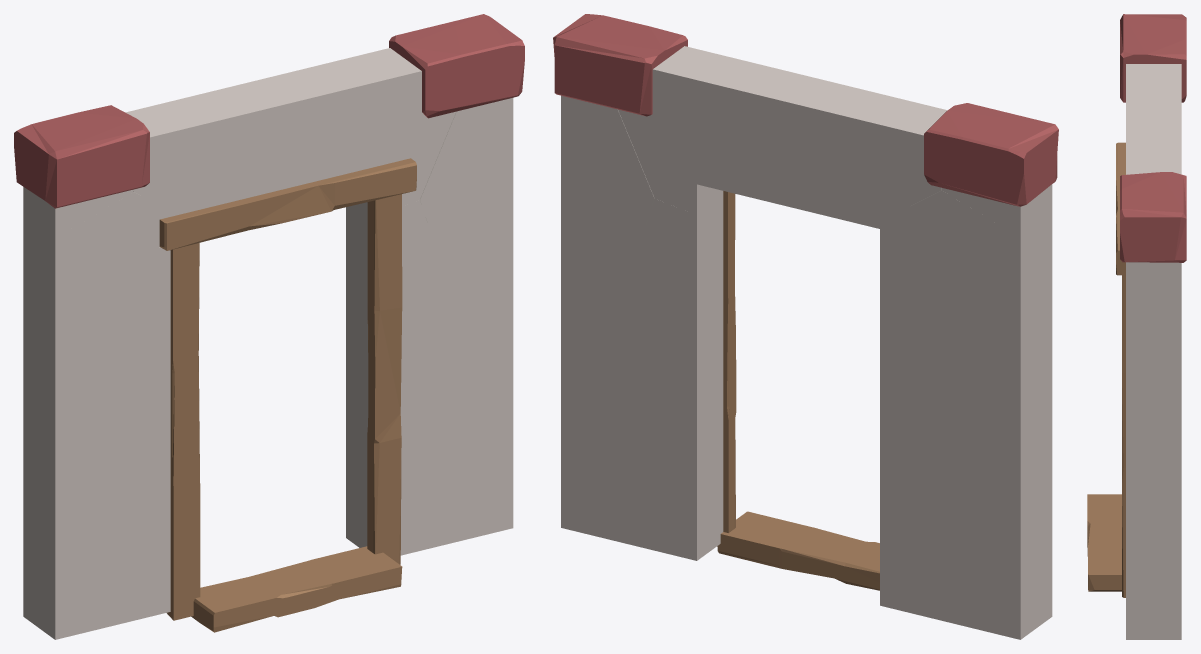
Rendered from PKF_PK_Wall_Door_v1.fbx.
3 renders of one model, left to right at view 1: azimuth 30°, elevation 25°; view 2: azimuth 150°, elevation 25°; view 3: azimuth 270°, elevation 25°, orthographic. The views are drawn at different scales.
Parts seen in each view (by area): view 1: PK_Wall_Door_Chunk_14, PK_Wall_Door_Chunk_03, PK_Wall_Door_Chunk_15, PK_Wall_Door_Chunk_23, PK_Wall_Door_Chunk_20, PK_Wall_Door_Chunk_16, PK_Wall_Door_Chunk_22, PK_Wall_Door_Chunk_12, PK_Wall_Door_Chunk_13, PK_Wall_Door_Chunk_02, PK_Wall_Door_Chunk_09, PK_Wall_Door_Chunk_08 (+13 smaller); view 2: PK_Wall_Door_Chunk_14, PK_Wall_Door_Chunk_15, PK_Wall_Door_Chunk_03, PK_Wall_Door_Chunk_16, PK_Wall_Door_Chunk_20, PK_Wall_Door_Chunk_13, PK_Wall_Door_Chunk_12, PK_Wall_Door_Chunk_09, PK_Wall_Door_Chunk_02, PK_Wall_Door_Chunk_06, PK_Wall_Door_Chunk_08, PK_Wall_Door_Chunk_07 (+11 smaller); view 3: PK_Wall_Door_Chunk_14, PK_Wall_Door_Chunk_05, PK_Wall_Door_Chunk_02, PK_Wall_Door_Chunk_21, PK_Wall_Door_Chunk_19, PK_Wall_Door_Chunk_16, PK_Wall_Door_Chunk_09, PK_Wall_Door_Chunk_15, PK_Wall_Door_Chunk_20, PK_Wall_Door_Chunk_23, PK_Wall_Door_Chunk_18, PK_Wall_Door_Chunk_24 (+1 smaller).
Boxes of the visible parts, x1,y1,x2,y2 form: PK_Wall_Door_Chunk_14: (420, 14, 524, 248); PK_Wall_Door_Chunk_03: (23, 468, 157, 639); PK_Wall_Door_Chunk_15: (346, 22, 485, 208); PK_Wall_Door_Chunk_23: (367, 194, 402, 564); PK_Wall_Door_Chunk_20: (14, 108, 136, 238); PK_Wall_Door_Chunk_16: (178, 72, 322, 214); PK_Wall_Door_Chunk_22: (167, 243, 200, 620); PK_Wall_Door_Chunk_12: (23, 267, 170, 374); PK_Wall_Door_Chunk_13: (23, 192, 178, 300); PK_Wall_Door_Chunk_02: (401, 398, 513, 536); PK_Wall_Door_Chunk_09: (346, 234, 513, 345); PK_Wall_Door_Chunk_08: (23, 352, 170, 453); PK_Wall_Door_Chunk_14: (553, 14, 654, 247); PK_Wall_Door_Chunk_15: (589, 20, 728, 214); PK_Wall_Door_Chunk_03: (917, 468, 1052, 639); PK_Wall_Door_Chunk_16: (752, 70, 896, 231); PK_Wall_Door_Chunk_20: (939, 105, 1058, 237); PK_Wall_Door_Chunk_13: (880, 190, 1052, 299); PK_Wall_Door_Chunk_12: (891, 262, 1052, 374); PK_Wall_Door_Chunk_09: (561, 233, 723, 344); PK_Wall_Door_Chunk_02: (561, 397, 685, 536); PK_Wall_Door_Chunk_06: (632, 317, 723, 471); PK_Wall_Door_Chunk_08: (894, 351, 1052, 453); PK_Wall_Door_Chunk_07: (944, 390, 1052, 533); PK_Wall_Door_Chunk_14: (1120, 198, 1186, 394); PK_Wall_Door_Chunk_05: (1126, 438, 1181, 577); PK_Wall_Door_Chunk_02: (1126, 578, 1181, 639); PK_Wall_Door_Chunk_21: (1087, 494, 1121, 591); PK_Wall_Door_Chunk_19: (1120, 46, 1186, 102); PK_Wall_Door_Chunk_16: (1126, 93, 1181, 138); PK_Wall_Door_Chunk_09: (1126, 395, 1181, 438); PK_Wall_Door_Chunk_15: (1120, 162, 1186, 201); PK_Wall_Door_Chunk_20: (1120, 14, 1186, 49); PK_Wall_Door_Chunk_23: (1122, 275, 1125, 597); PK_Wall_Door_Chunk_18: (1126, 145, 1181, 161); PK_Wall_Door_Chunk_24: (1116, 142, 1125, 275).
Size of the model in its own units: 206 by 209 by 43.
